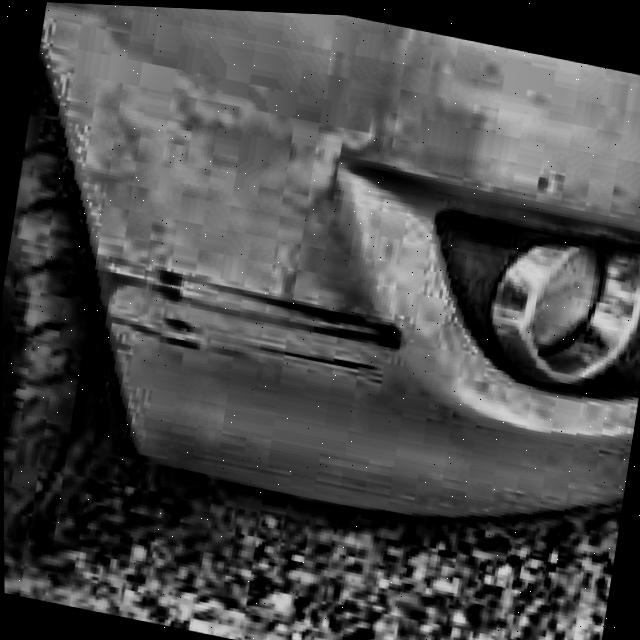bumper_scratch: (81, 246, 417, 406)
